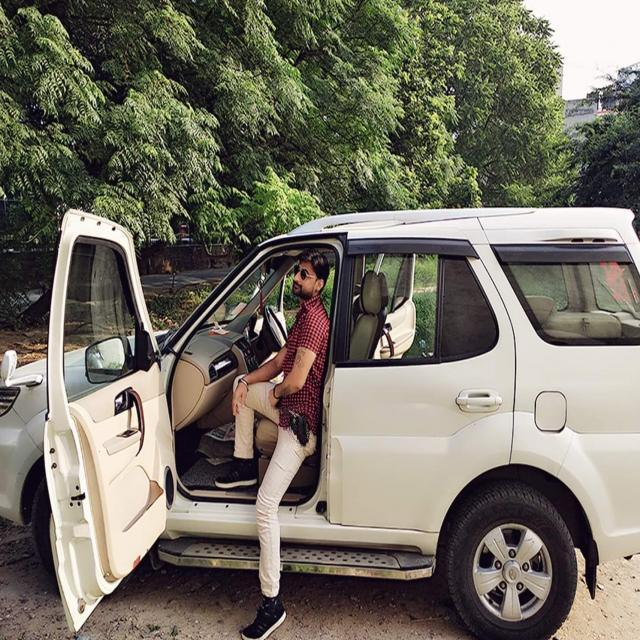handgun: (281, 403, 313, 451)
